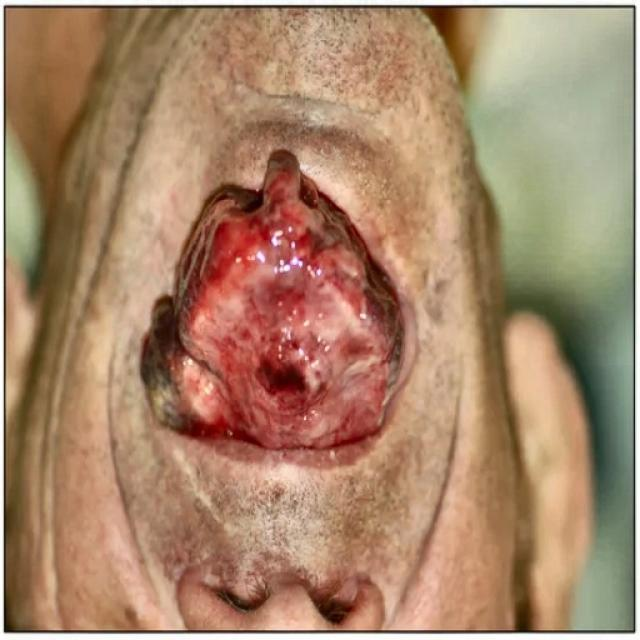cancer-detection: (139, 146, 408, 448)
processing_area: (137, 137, 409, 451)
